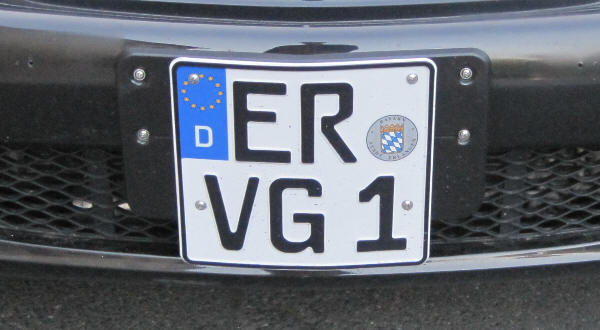license_plate: (170, 57, 436, 266)
